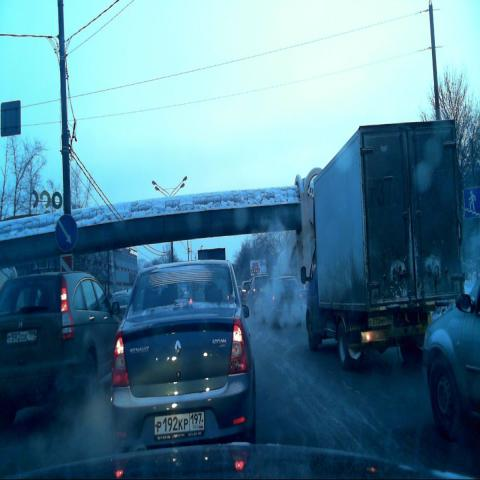6_7: (462, 186, 480, 219)
